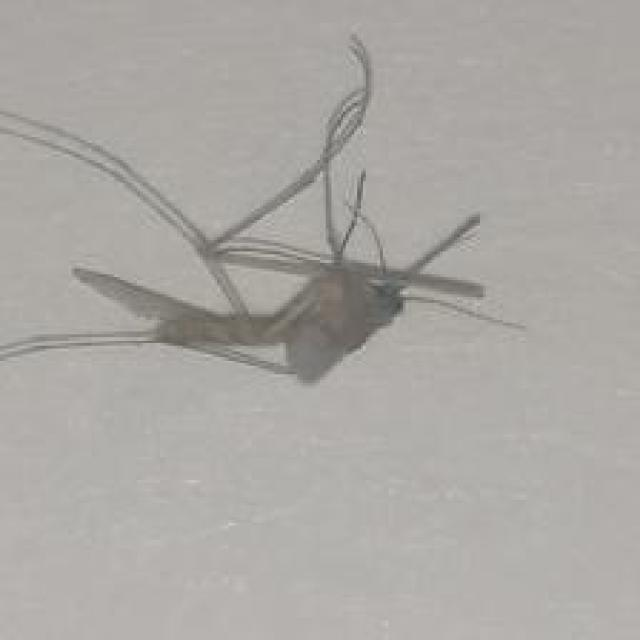Culex: (0, 30, 526, 387)
